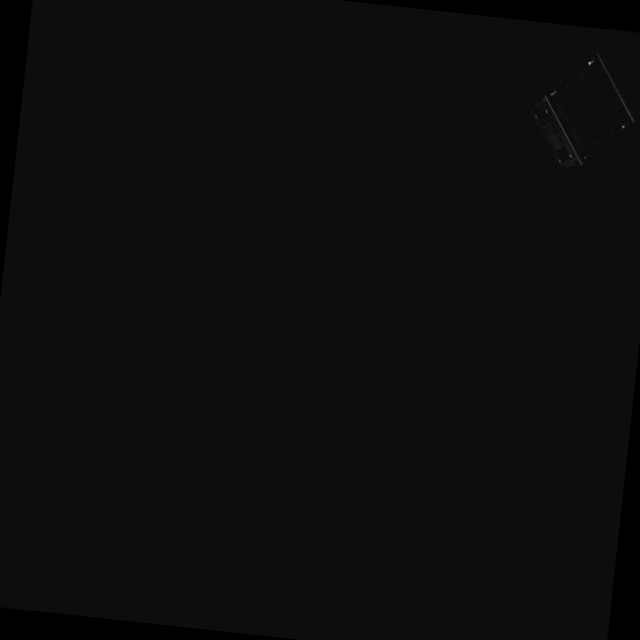satellite: (516, 43, 640, 181)
